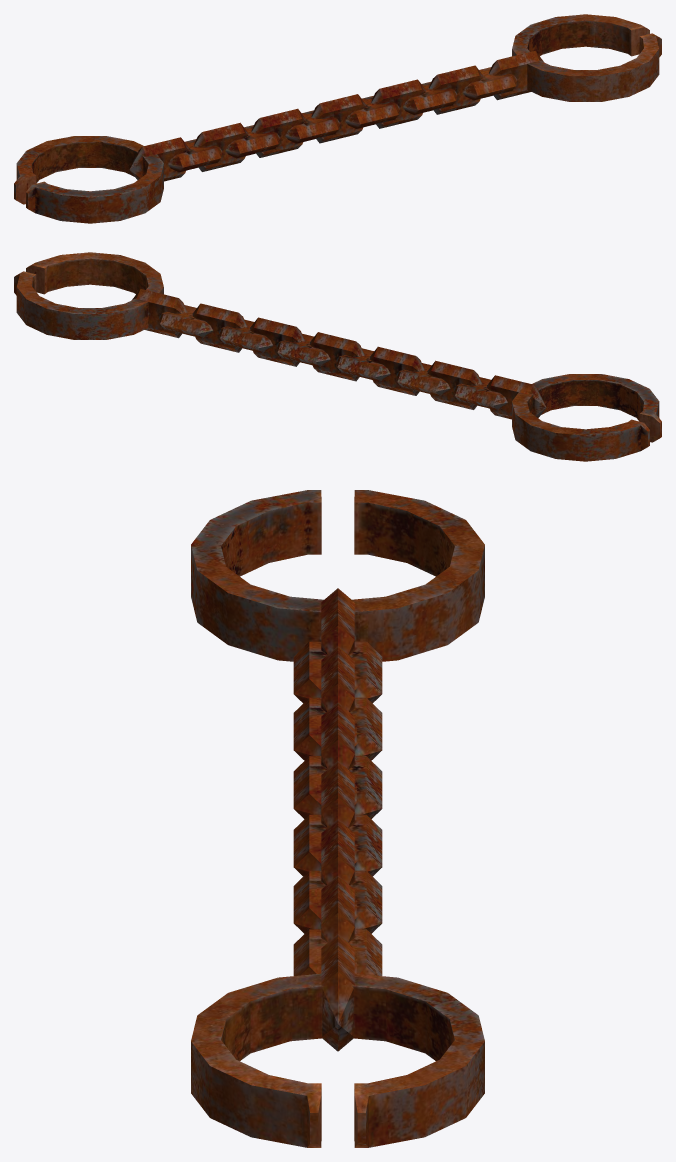
The model's file is chain_shackles.glb.
3 renders of one model, top to bottom at view 1: azimuth 30°, elevation 25°; view 2: azimuth 150°, elevation 25°; view 3: azimuth 270°, elevation 25°, orthographic. The views are drawn at different scales.
Visible parts, largest first — view 1: chain_shackles; view 2: chain_shackles; view 3: chain_shackles.
Boxes of the visible parts, box(x1,y1,x2,y2) form: chain_shackles: box(14, 14, 661, 223); chain_shackles: box(14, 252, 661, 461); chain_shackles: box(191, 490, 484, 1147).
Size of what is drawn, in the model's own units: 0.6 by 0.0363 by 0.1205.
Materials: 1 (1 with a texture image).
